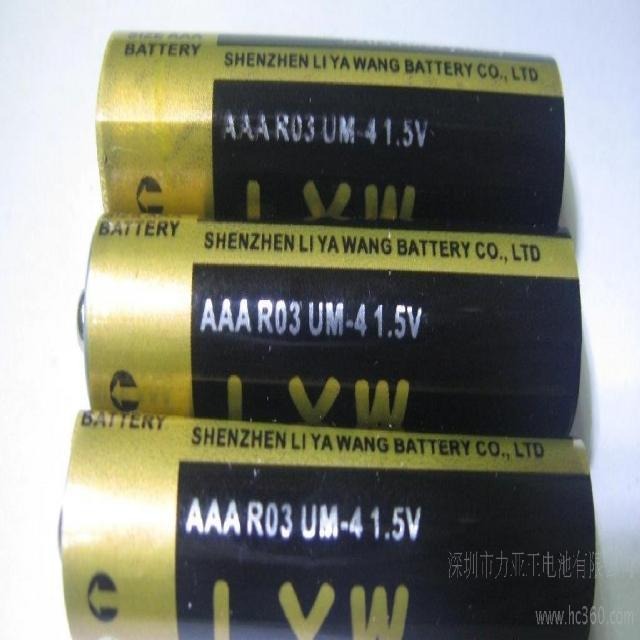Hazard: (47, 418, 600, 640), (72, 217, 586, 433), (95, 19, 570, 222)
